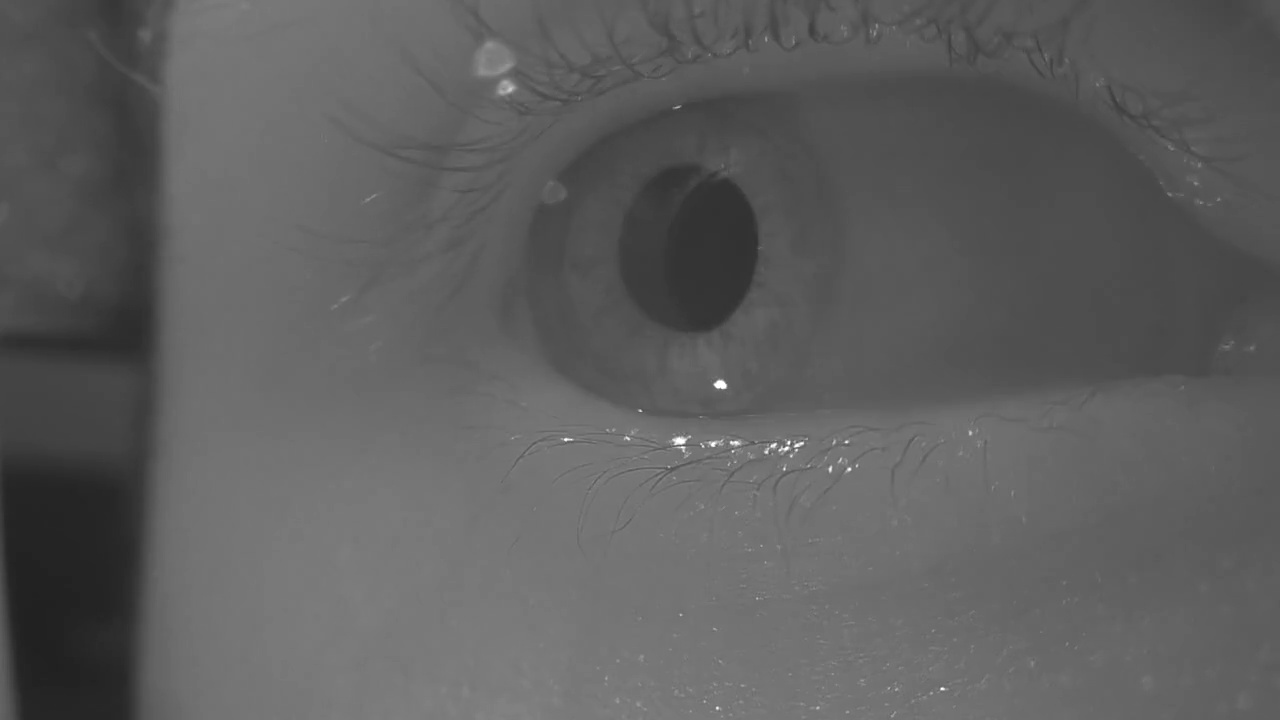pupil: (616, 165, 758, 332)
